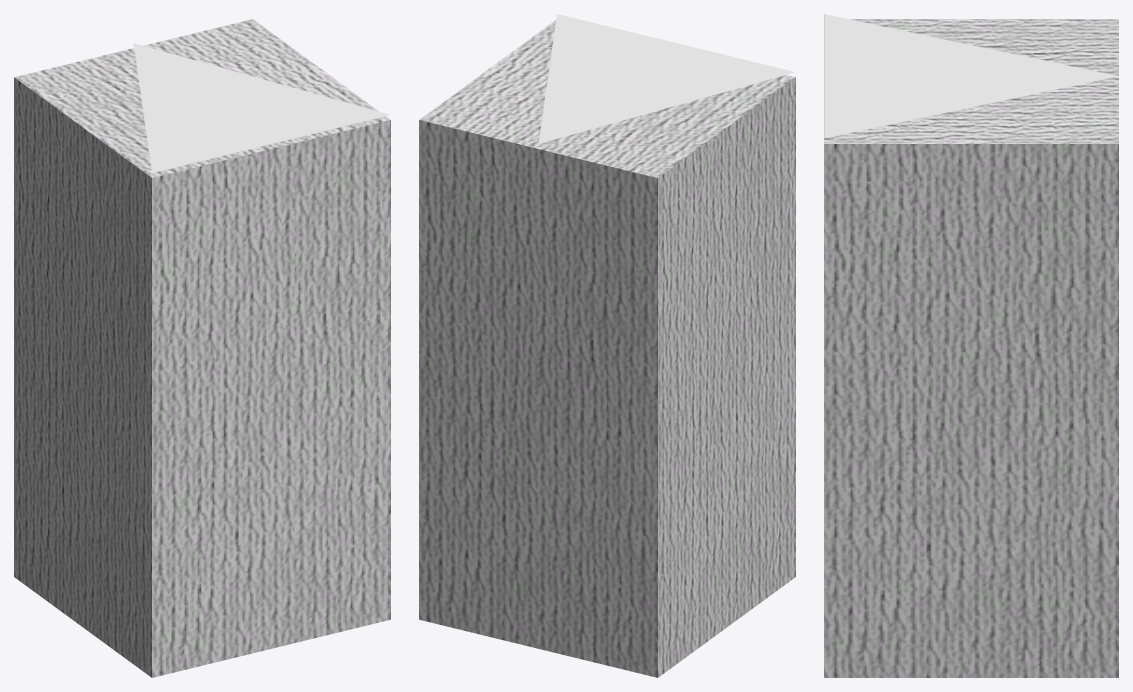
File: apparel.obj
The picture shows the model from 3 angles, left to right: view 1: azimuth 30°, elevation 25°; view 2: azimuth 150°, elevation 25°; view 3: azimuth 270°, elevation 25°; orthographic projection. The views are drawn at different scales.
Parts seen in each view (by area): view 1: Apparel1, Apparel2; view 2: Apparel1, Apparel2; view 3: Apparel1, Apparel2.
Boxes of the visible parts, x1=… form: Apparel1: x1=14, y1=19, x2=390, y2=677; Apparel2: x1=133, y1=43, x2=390, y2=172; Apparel1: x1=419, y1=20, x2=795, y2=677; Apparel2: x1=538, y1=14, x2=794, y2=143; Apparel1: x1=824, y1=19, x2=1118, y2=677; Apparel2: x1=824, y1=14, x2=1118, y2=138.
Size of the model in its own units: 1 by 2.02 by 1.
Materials: 2 (2 with a texture image).
